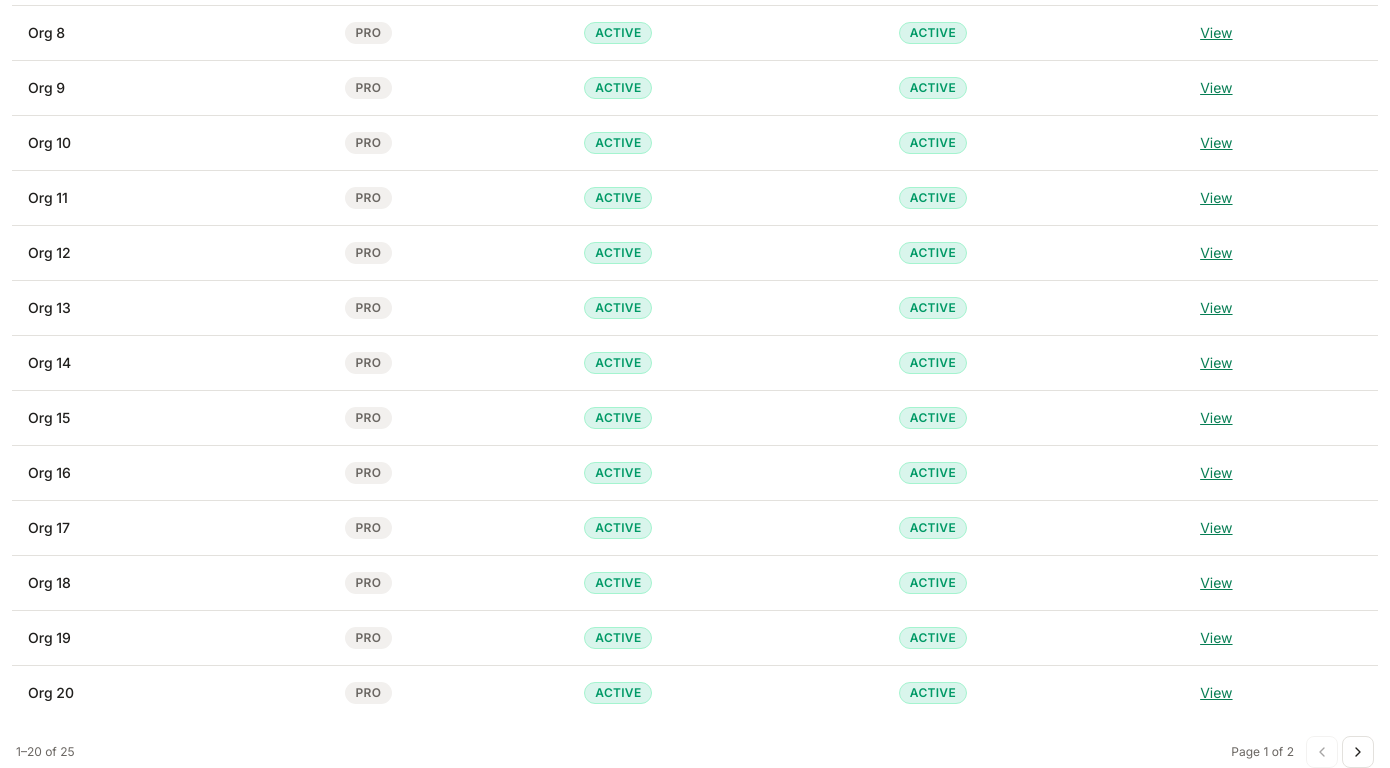
Scenario: AdminOrganizationsPage - paging › lets the admin reach organizations beyond the first server page
(page scrolled)
Check: the text "1–20 of 25" is shown, box [16, 744, 75, 760]
Click the button named "Next page": (1358, 752) [1342, 736, 1374, 767]
(page scrolled)
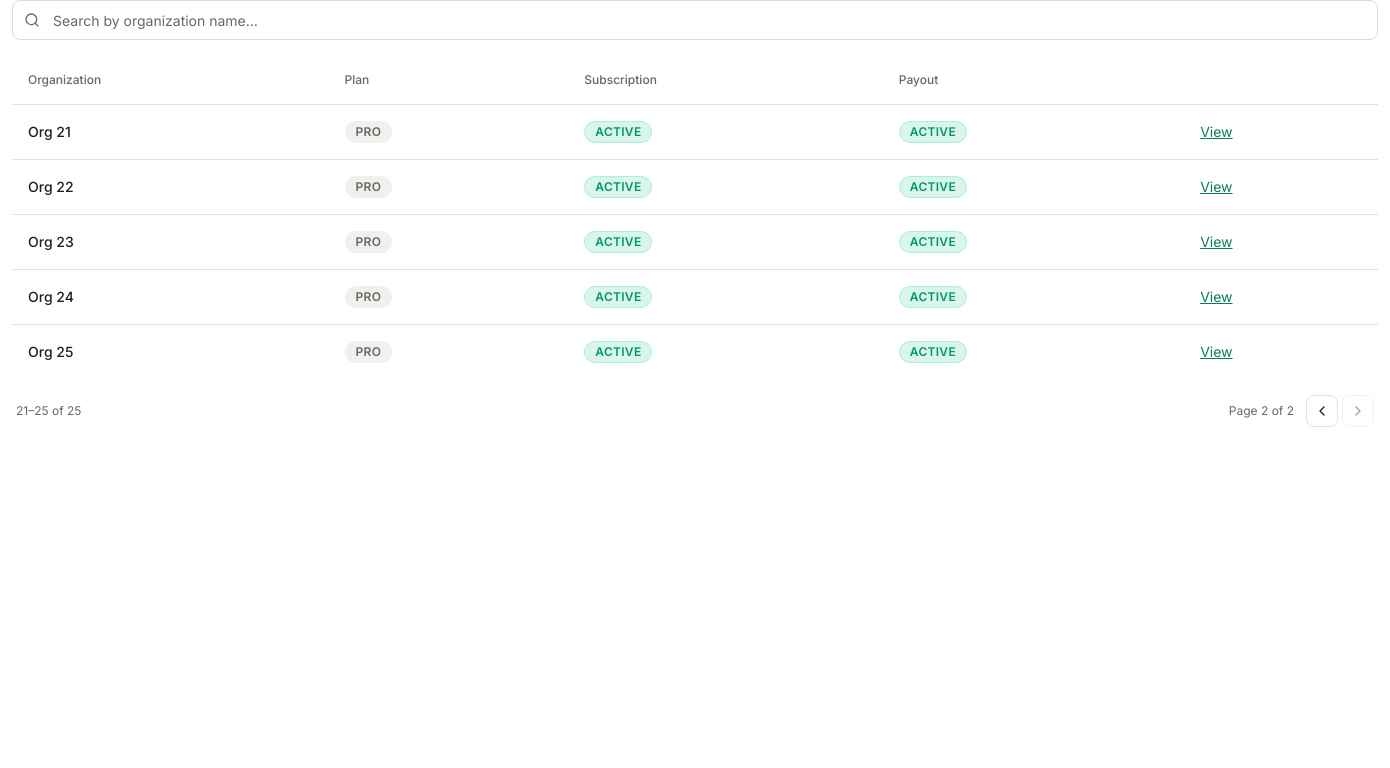
Check: the text "21–25 of 25" is shown, box [16, 402, 82, 418]
